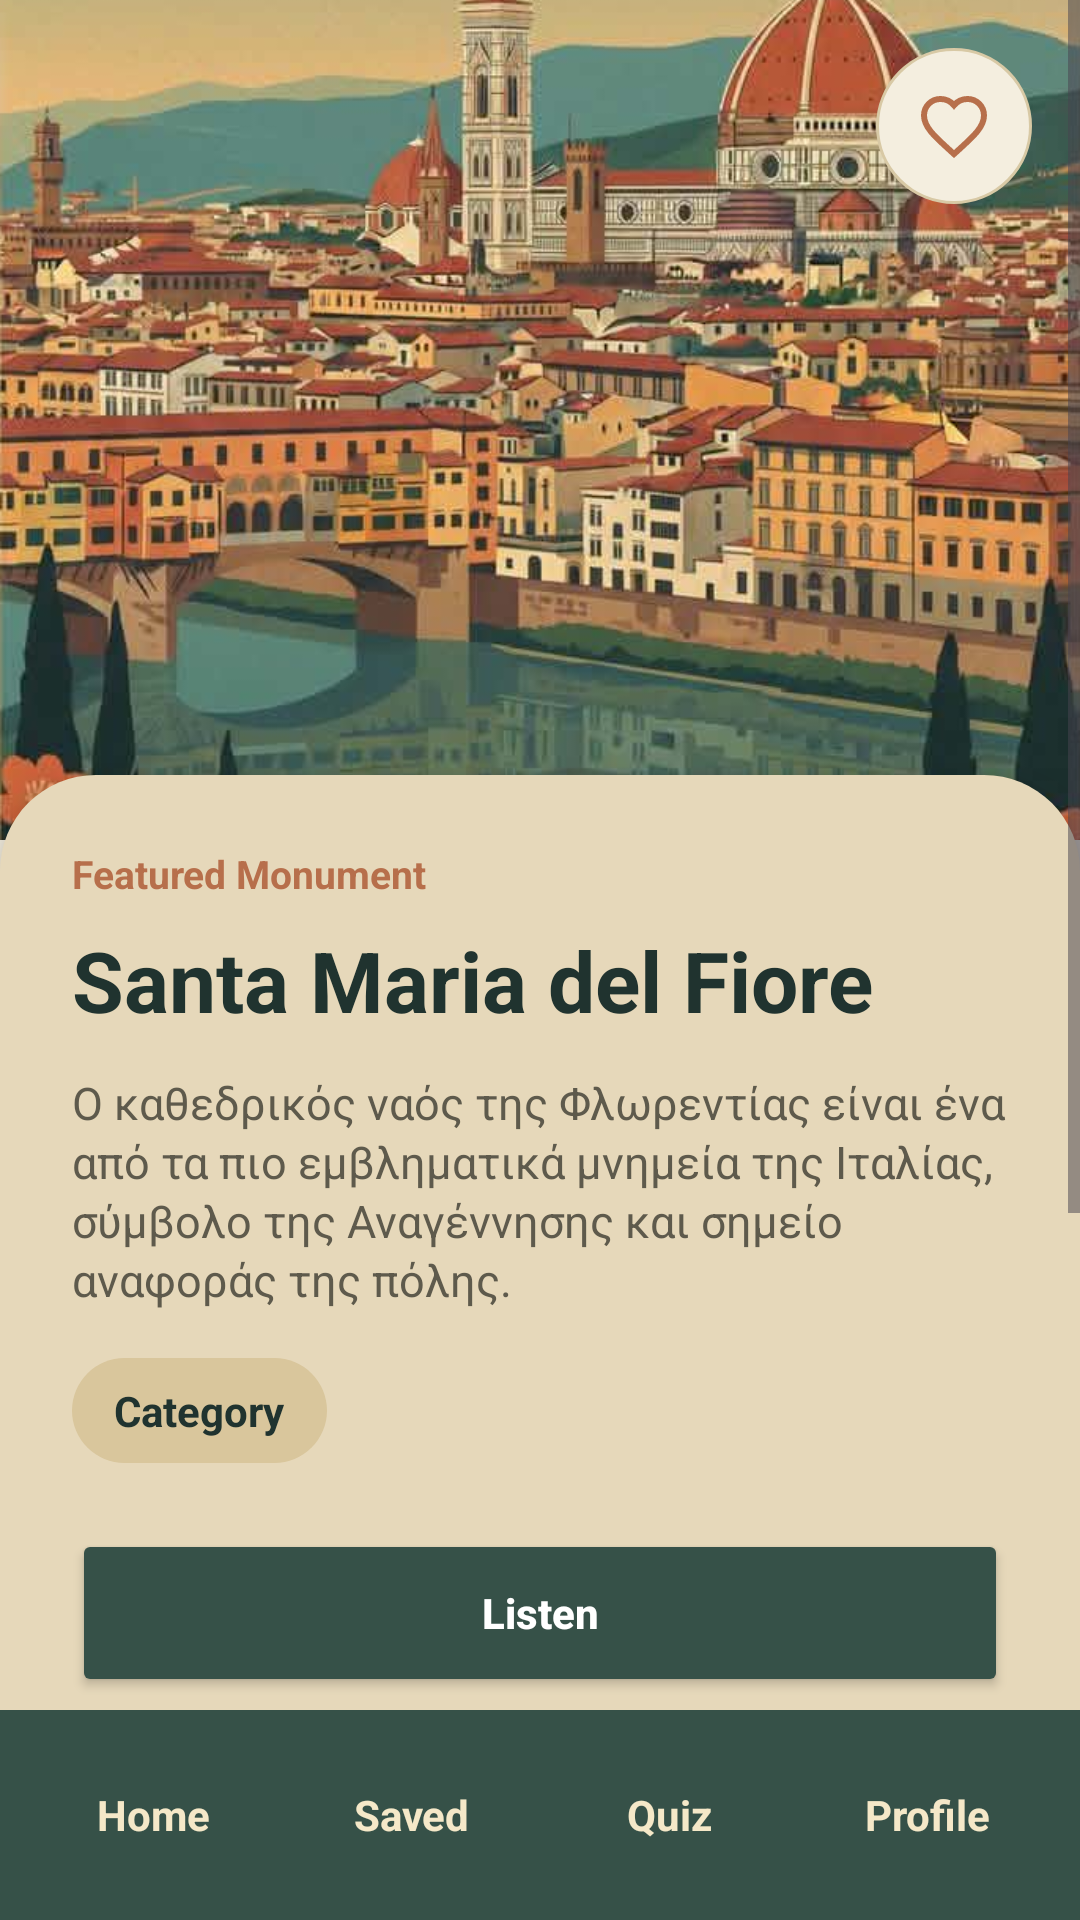

Named icons in this screenshot (1080 × 1920) and their centers, [x,y]:
heart: [954,126]
